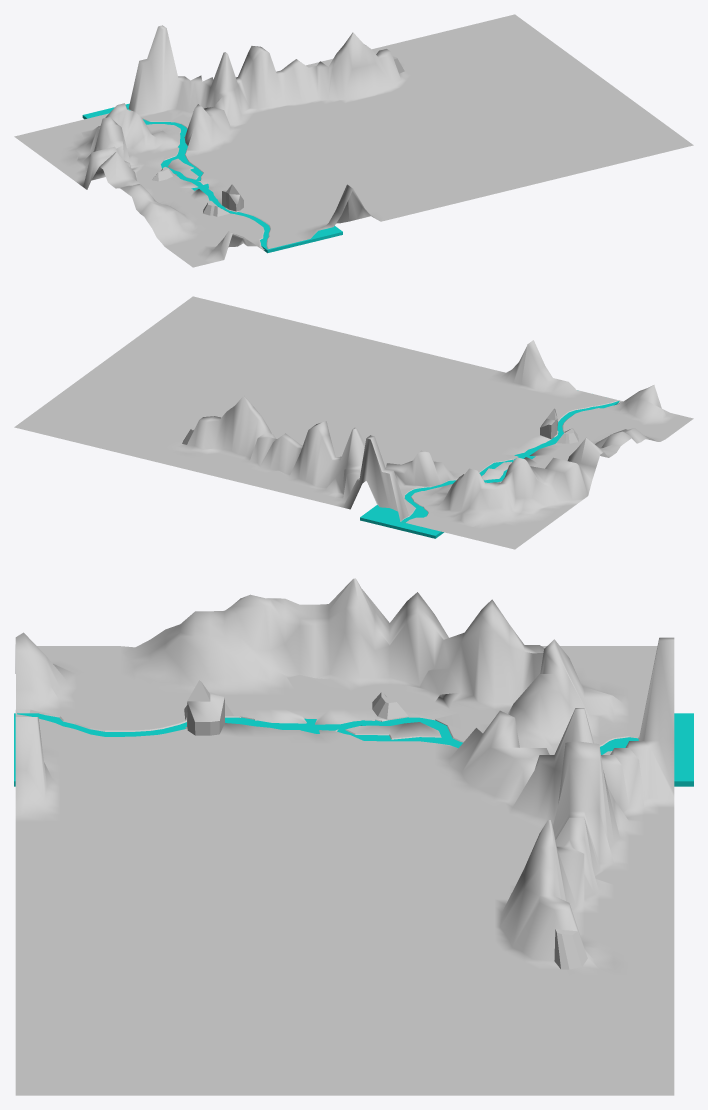
Rendered from landshaft.fbx.
The picture shows the model from 3 angles, top to bottom: view 1: azimuth 30°, elevation 25°; view 2: azimuth 150°, elevation 25°; view 3: azimuth 270°, elevation 25°; orthographic projection. The views are drawn at different scales.
Visible parts, largest first — view 1: Plane002, Box001; view 2: Plane002, Box001; view 3: Plane002, Box001.
Boxes of the visible parts, x1,y1,x2,y2 form: Plane002: (14,14,693,267); Box001: (82,103,342,253); Plane002: (14,296,693,549); Box001: (360,401,619,538); Plane002: (15,578,674,1095); Box001: (14,713,693,786).
Bounding box in the file's own units: 14879 × 2447 × 9508.
